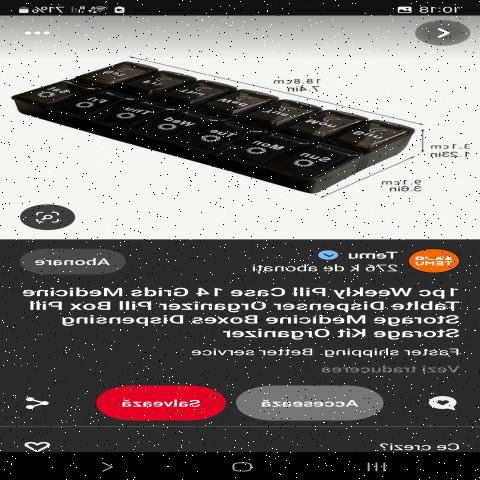Pill-box: (17, 40, 451, 198)
